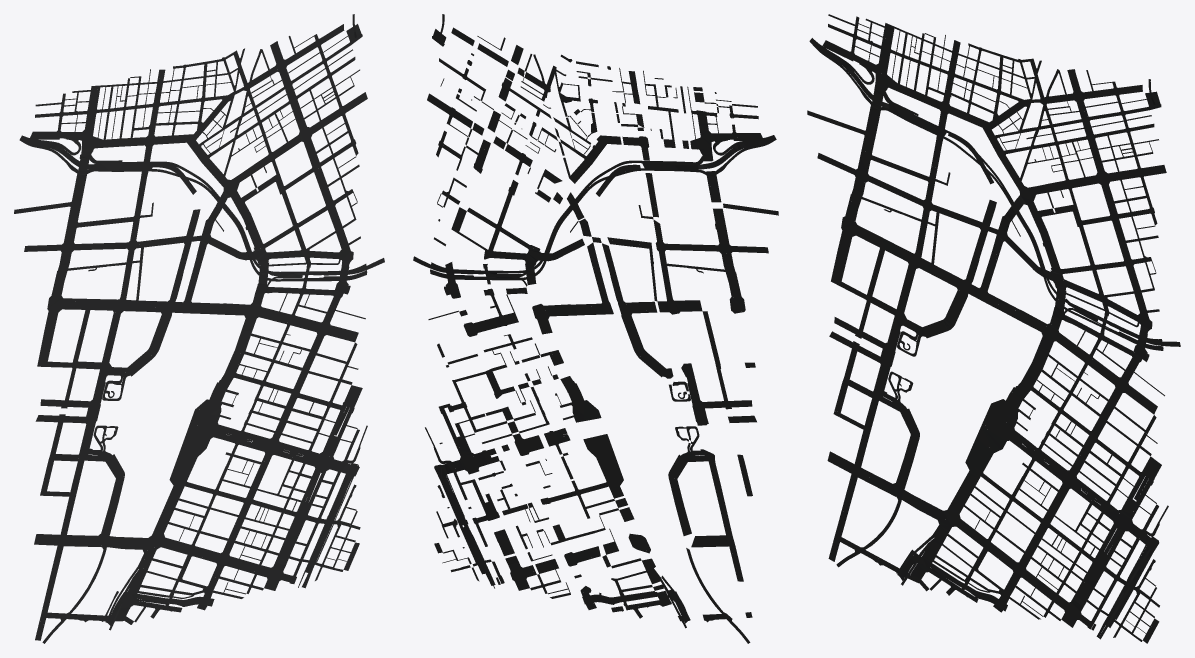
Rendered from TokyoStation_Road.fbx.
The picture shows the model from 3 angles, left to right: view 1: azimuth 30°, elevation 25°; view 2: azimuth 150°, elevation 25°; view 3: azimuth 330°, elevation 25°; orthographic projection. The views are drawn at different scales.
Visible parts, largest first — view 1: tran_fd487cc1-b4c9-4d3e-ad48-e9fed0f9dd83, tran_921682c0-2c17-4ab3-9e01-5903149a703a, tran_be1ee327-e3cf-4157-bdc4-c9ef97e9e8b7, tran_70159cbb-6e57-4ae2-a1c9-b330b37caecd, tran_beebfbc1-ddfc-4136-bde2-17644da71456, tran_f4f938f3-a9a8-4d81-9f0d-16c9af09b038, tran_9716fa09-bc45-4ffe-ac7b-3889c3dc4164; view 2: tran_fd487cc1-b4c9-4d3e-ad48-e9fed0f9dd83, tran_921682c0-2c17-4ab3-9e01-5903149a703a, tran_be1ee327-e3cf-4157-bdc4-c9ef97e9e8b7, tran_70159cbb-6e57-4ae2-a1c9-b330b37caecd, tran_beebfbc1-ddfc-4136-bde2-17644da71456; view 3: tran_fd487cc1-b4c9-4d3e-ad48-e9fed0f9dd83, tran_921682c0-2c17-4ab3-9e01-5903149a703a, tran_be1ee327-e3cf-4157-bdc4-c9ef97e9e8b7, tran_70159cbb-6e57-4ae2-a1c9-b330b37caecd, tran_beebfbc1-ddfc-4136-bde2-17644da71456, tran_f4f938f3-a9a8-4d81-9f0d-16c9af09b038, tran_9716fa09-bc45-4ffe-ac7b-3889c3dc4164.
Part boxes in pixels (x1,y1,x2,y2): tran_fd487cc1-b4c9-4d3e-ad48-e9fed0f9dd83: (151, 161, 314, 281); tran_921682c0-2c17-4ab3-9e01-5903149a703a: (170, 433, 210, 481); tran_be1ee327-e3cf-4157-bdc4-c9ef97e9e8b7: (101, 454, 124, 535); tran_70159cbb-6e57-4ae2-a1c9-b330b37caecd: (127, 312, 171, 376); tran_beebfbc1-ddfc-4136-bde2-17644da71456: (189, 302, 249, 315); tran_f4f938f3-a9a8-4d81-9f0d-16c9af09b038: (59, 148, 124, 173); tran_9716fa09-bc45-4ffe-ac7b-3889c3dc4164: (38, 311, 58, 361); tran_fd487cc1-b4c9-4d3e-ad48-e9fed0f9dd83: (482, 160, 645, 280); tran_921682c0-2c17-4ab3-9e01-5903149a703a: (583, 434, 622, 482); tran_be1ee327-e3cf-4157-bdc4-c9ef97e9e8b7: (668, 454, 691, 535); tran_70159cbb-6e57-4ae2-a1c9-b330b37caecd: (621, 314, 665, 377); tran_beebfbc1-ddfc-4136-bde2-17644da71456: (544, 303, 603, 316); tran_fd487cc1-b4c9-4d3e-ad48-e9fed0f9dd83: (943, 130, 1109, 330); tran_921682c0-2c17-4ab3-9e01-5903149a703a: (966, 423, 1006, 472); tran_be1ee327-e3cf-4157-bdc4-c9ef97e9e8b7: (896, 408, 919, 489); tran_70159cbb-6e57-4ae2-a1c9-b330b37caecd: (922, 290, 968, 338); tran_beebfbc1-ddfc-4136-bde2-17644da71456: (986, 293, 1047, 331); tran_f4f938f3-a9a8-4d81-9f0d-16c9af09b038: (849, 71, 916, 124); tran_9716fa09-bc45-4ffe-ac7b-3889c3dc4164: (832, 230, 852, 281).
Bounding box in the file's own units: 1313 × 20.6 × 1912.
1 material, 1 textured.
